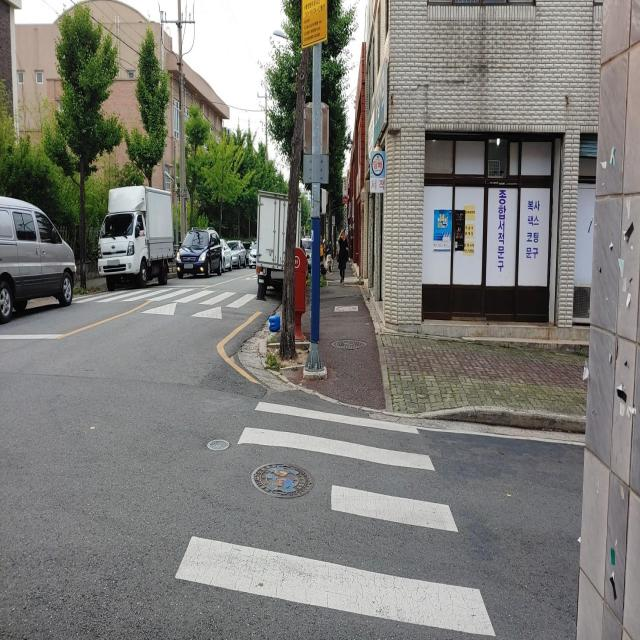횡단보도: (172, 394, 499, 640), (68, 280, 266, 319)
